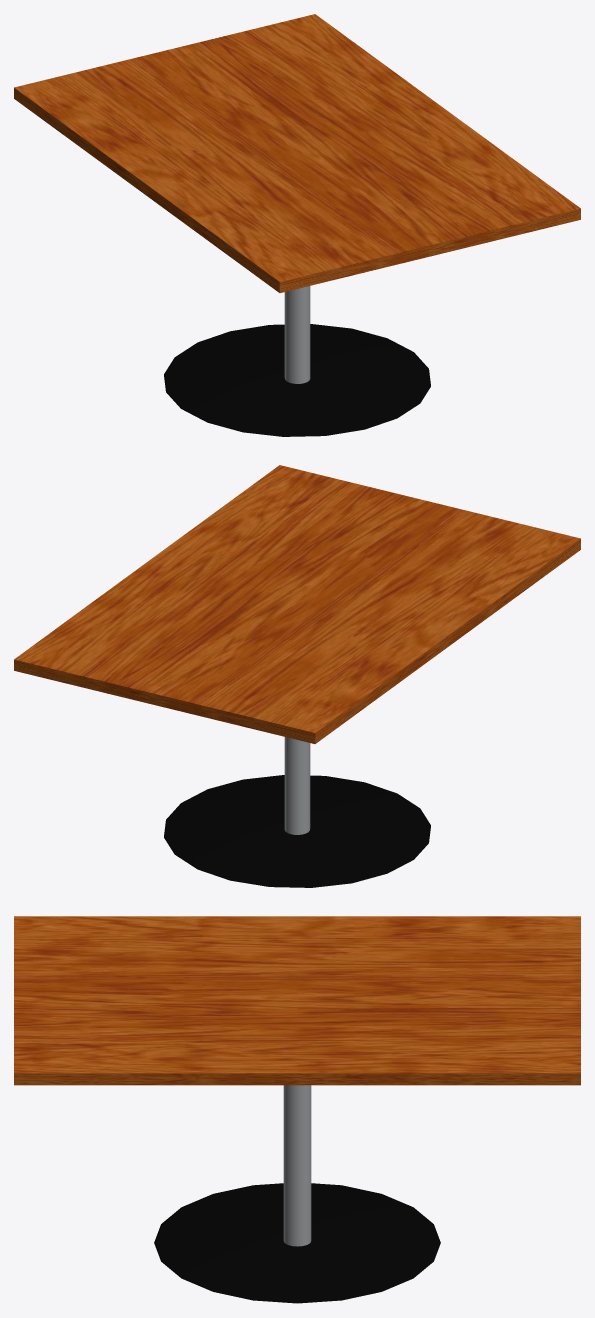
The model's file is mesa.obj.
3 views of the same model, one above another, from view 1: azimuth 30°, elevation 25°; view 2: azimuth 150°, elevation 25°; view 3: azimuth 270°, elevation 25° (orthographic). The views are drawn at different scales.
Parts seen in each view (by area): view 1: polySurface2; view 2: polySurface2; view 3: polySurface2.
Boxes of the visible parts, x1,y1,x2,y2 form: polySurface2: (14,14,580,436); polySurface2: (14,465,580,887); polySurface2: (14,916,580,1303).
Bounding box in the file's own units: 1.32 × 0.986 × 2.02.
Materials: 3 (3 with a texture image).
